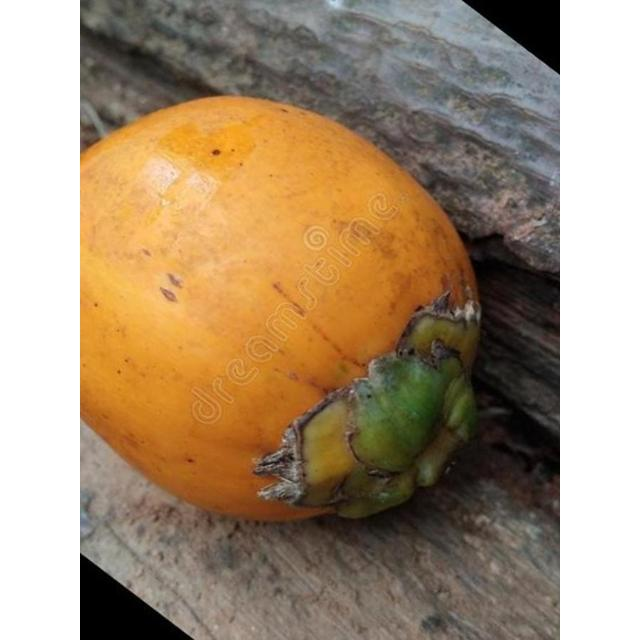good: (80, 95, 482, 525)
